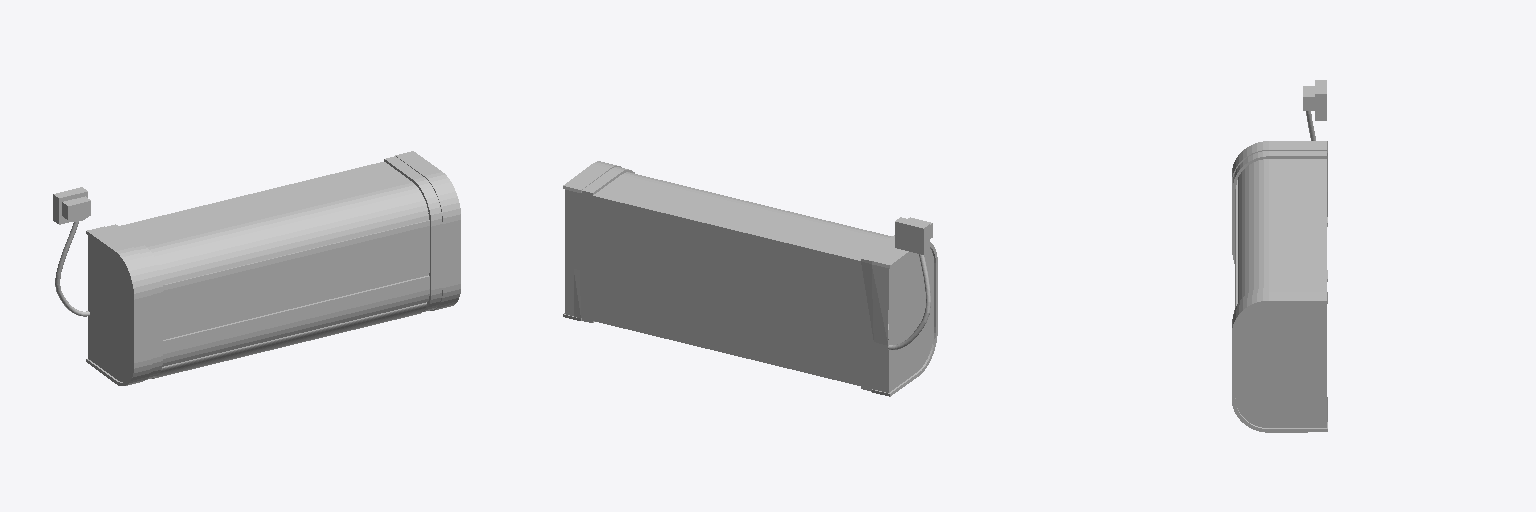
The model's file is aircon.obj.
3 views of the same model, side by side, from view 1: azimuth 30°, elevation 25°; view 2: azimuth 150°, elevation 25°; view 3: azimuth 270°, elevation 25° (orthographic).
Visible parts, largest first — view 1: aircon_c; view 2: aircon_c; view 3: aircon_c.
Part boxes in pixels (x1,y1,x2,y2): aircon_c: (53, 151, 460, 385); aircon_c: (563, 161, 937, 396); aircon_c: (1232, 80, 1327, 432).
Bounding box in the file's own units: 0.6975 × 0.3249 × 0.1614.